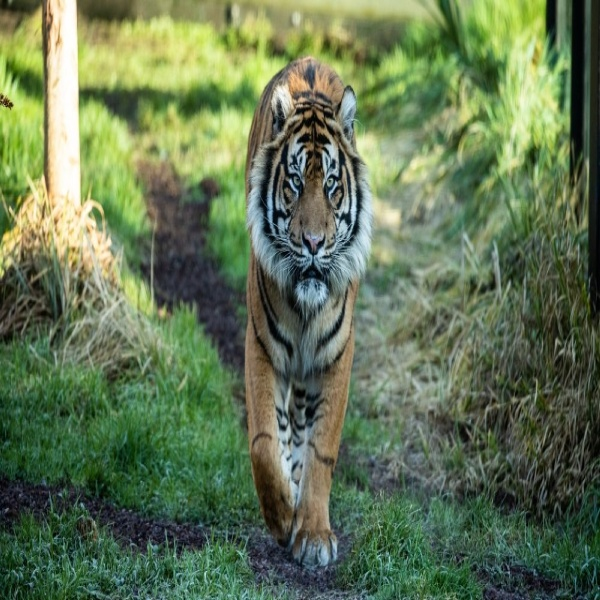Tiger: (238, 53, 379, 568)
